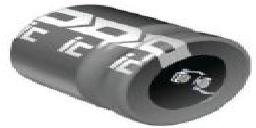Electrolytic Capacitor: (9, 2, 255, 122)
